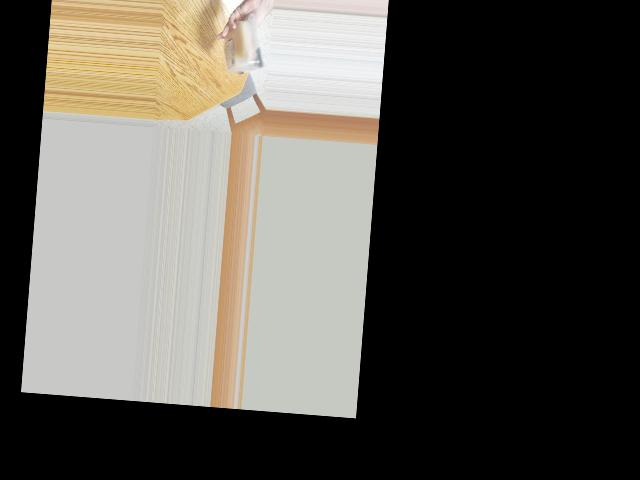cheese: (218, 17, 266, 78)
